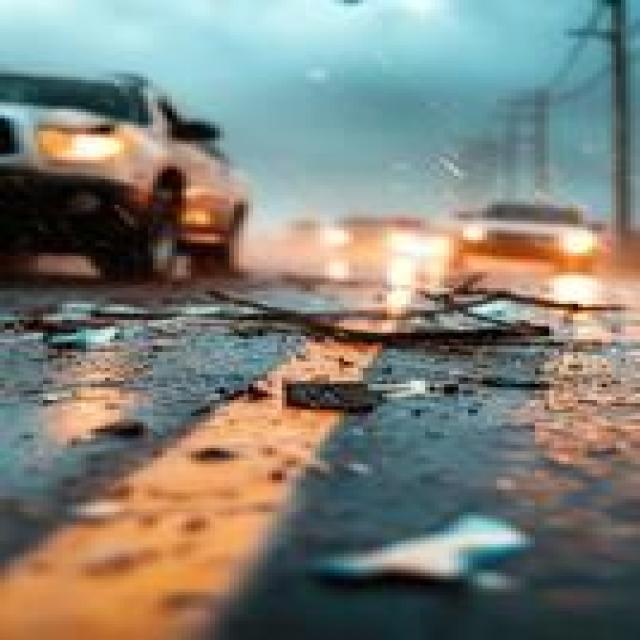road collapse: (13, 211, 640, 640)
